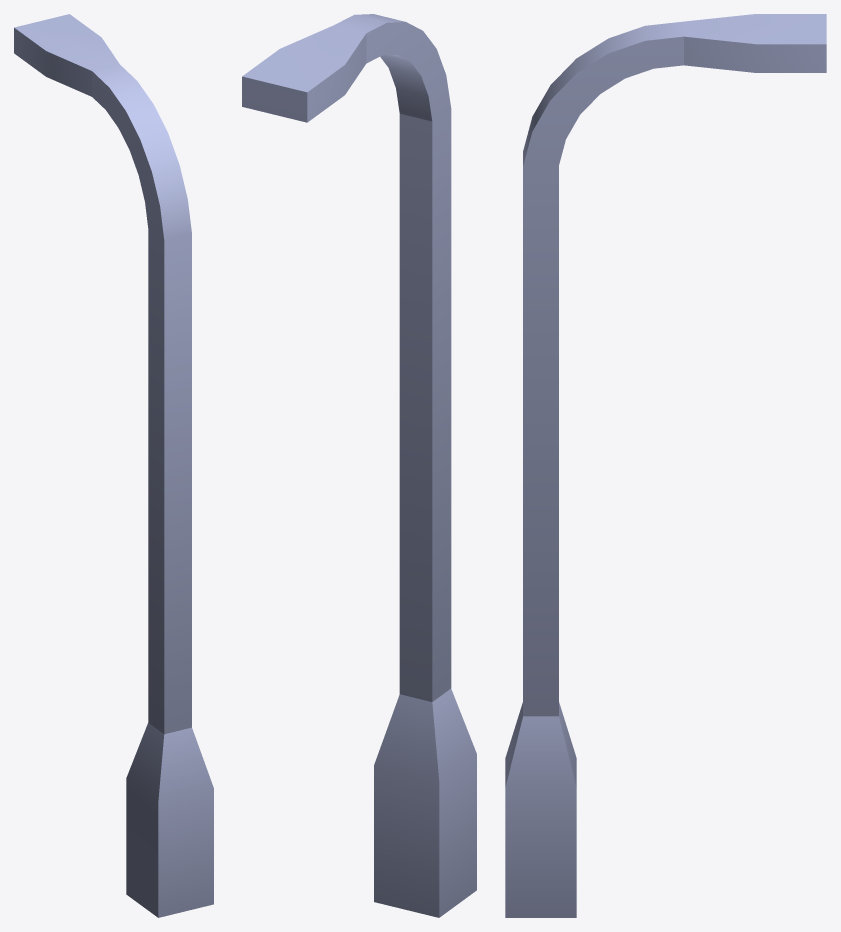
The model's file is streetlight_1.fbx.
3 views of the same model, side by side, from view 1: azimuth 30°, elevation 25°; view 2: azimuth 150°, elevation 25°; view 3: azimuth 270°, elevation 25° (orthographic). The views are drawn at different scales.
Parts seen in each view (by area): view 1: streetlight_1; view 2: streetlight_1; view 3: streetlight_1.
Boxes of the visible parts, x1,y1,x2,y2 form: streetlight_1: (14, 14, 213, 917); streetlight_1: (242, 14, 476, 917); streetlight_1: (505, 14, 826, 917).
Size of the model in its own units: 0.05 by 0.675 by 0.225.
Materials: 1 (1 with a texture image).
